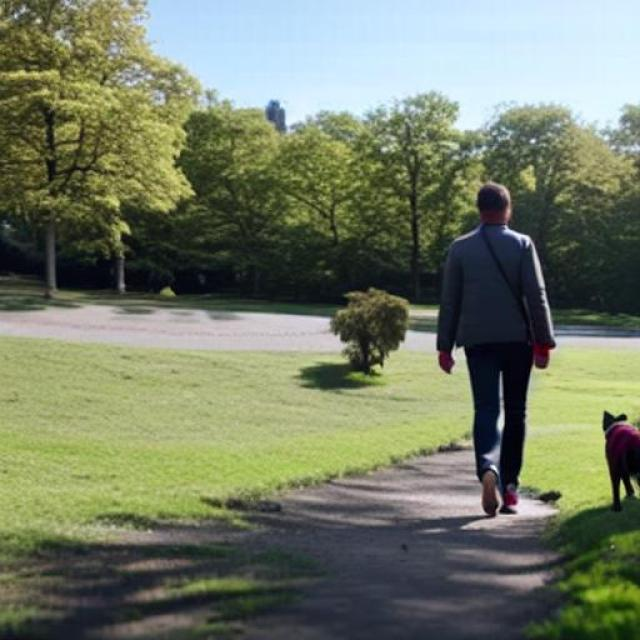Unleashed_Dog: (482, 341, 640, 515)
